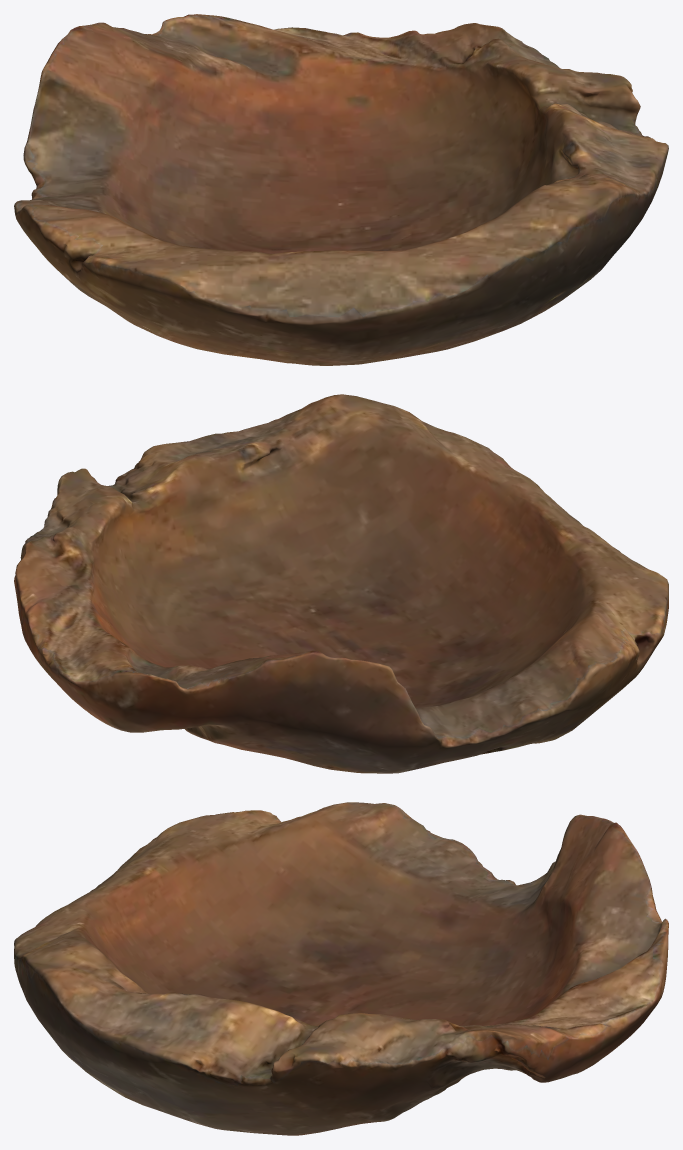
File: wooden_bowl_01.glb
The picture shows the model from 3 angles, top to bottom: view 1: azimuth 30°, elevation 25°; view 2: azimuth 150°, elevation 25°; view 3: azimuth 270°, elevation 25°; orthographic projection. The views are drawn at different scales.
Visible parts, largest first — view 1: wooden_bowl_01; view 2: wooden_bowl_01; view 3: wooden_bowl_01.
Boxes of the visible parts, x1,y1,x2,y2 form: wooden_bowl_01: (14,14,668,365); wooden_bowl_01: (14,394,668,773); wooden_bowl_01: (14,802,668,1135).
Bounding box in the file's own units: 0.3131 × 0.0937 × 0.3091.
1 material, 1 textured.
